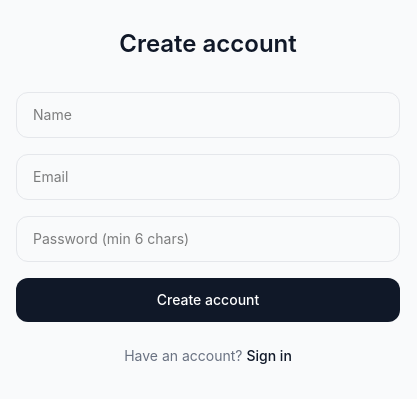
SignupPage › shows error message on signup failure
The width and height of the screenshot is (417, 399).
Type "Alice" into the field with placeholder "Name" at coordinates (208, 115), box [16,92,400,138]
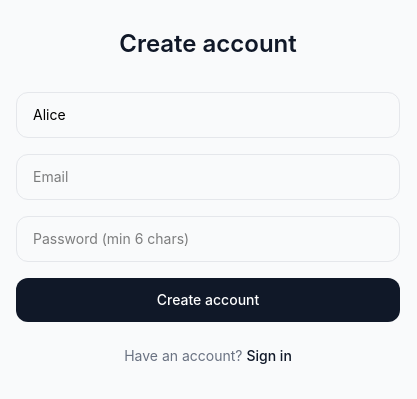
Type "a@b.com" into the field with placeholder "Email" at coordinates (208, 177), box [16,154,400,200]
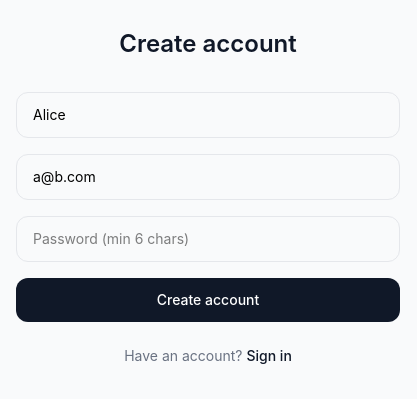
Type "pass123" into the password field with placeholder "Password (min 6 chars)" at coordinates (208, 239), box [16,216,400,262]
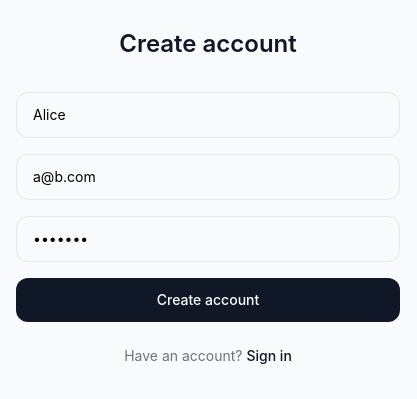
Click the button "Create account" at coordinates (208, 300), box [16,278,400,322]
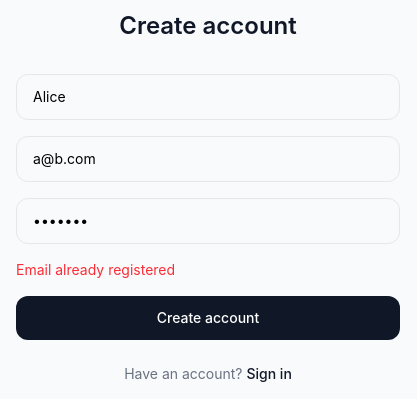
Expected: the text "Email already registered" is shown, [16,261,175,278]
